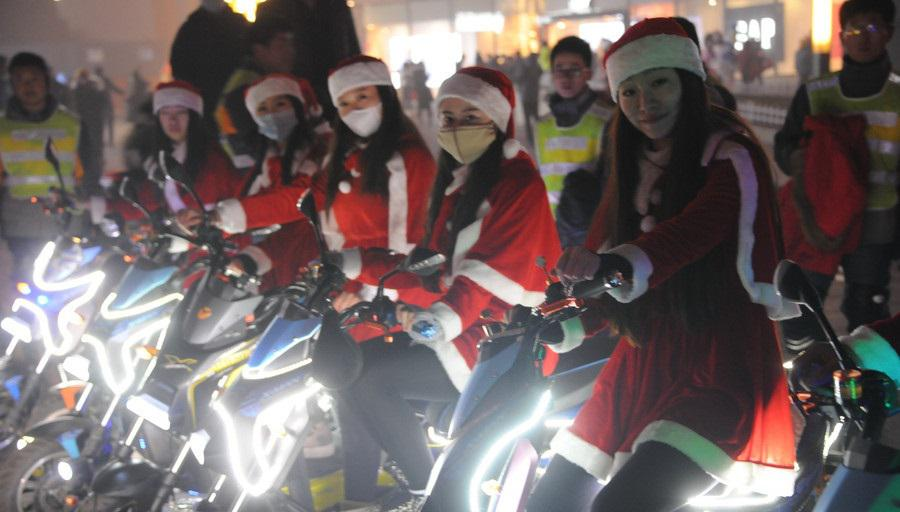NONE: (619, 71, 685, 138), (840, 16, 888, 64), (159, 100, 196, 140), (555, 58, 589, 101), (264, 31, 297, 73), (14, 67, 46, 106)
OK: (442, 105, 492, 162), (341, 82, 384, 134), (255, 92, 298, 141)
